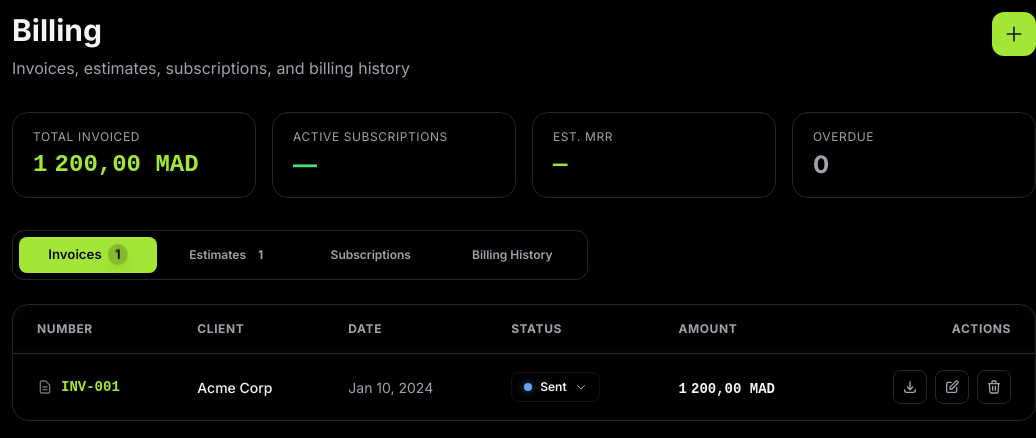
Scenario: BillingPage › switches to estimates tab and renders estimate rows
The width and height of the screenshot is (1036, 438).
Step 1. Click the button "Estimates1" → coordinates (229, 255), box 160,237 -> 298,273
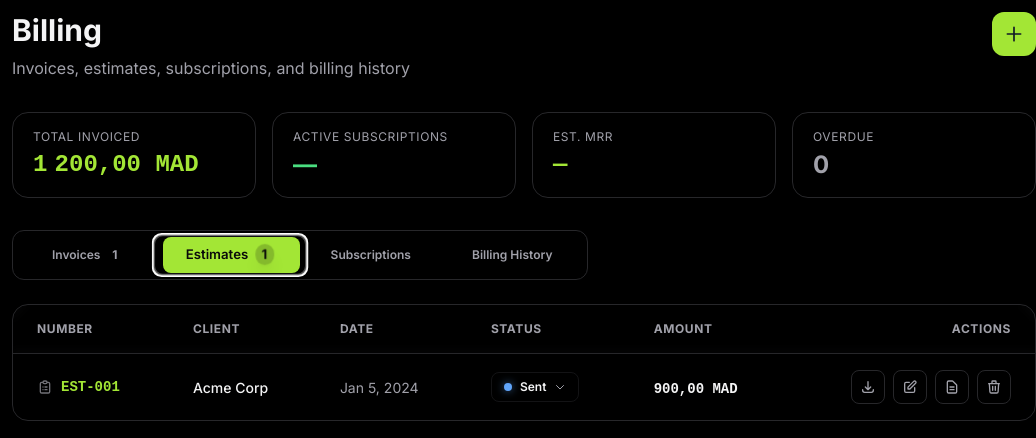
Now the text "EST-001" is shown, box 61,377 -> 120,397
